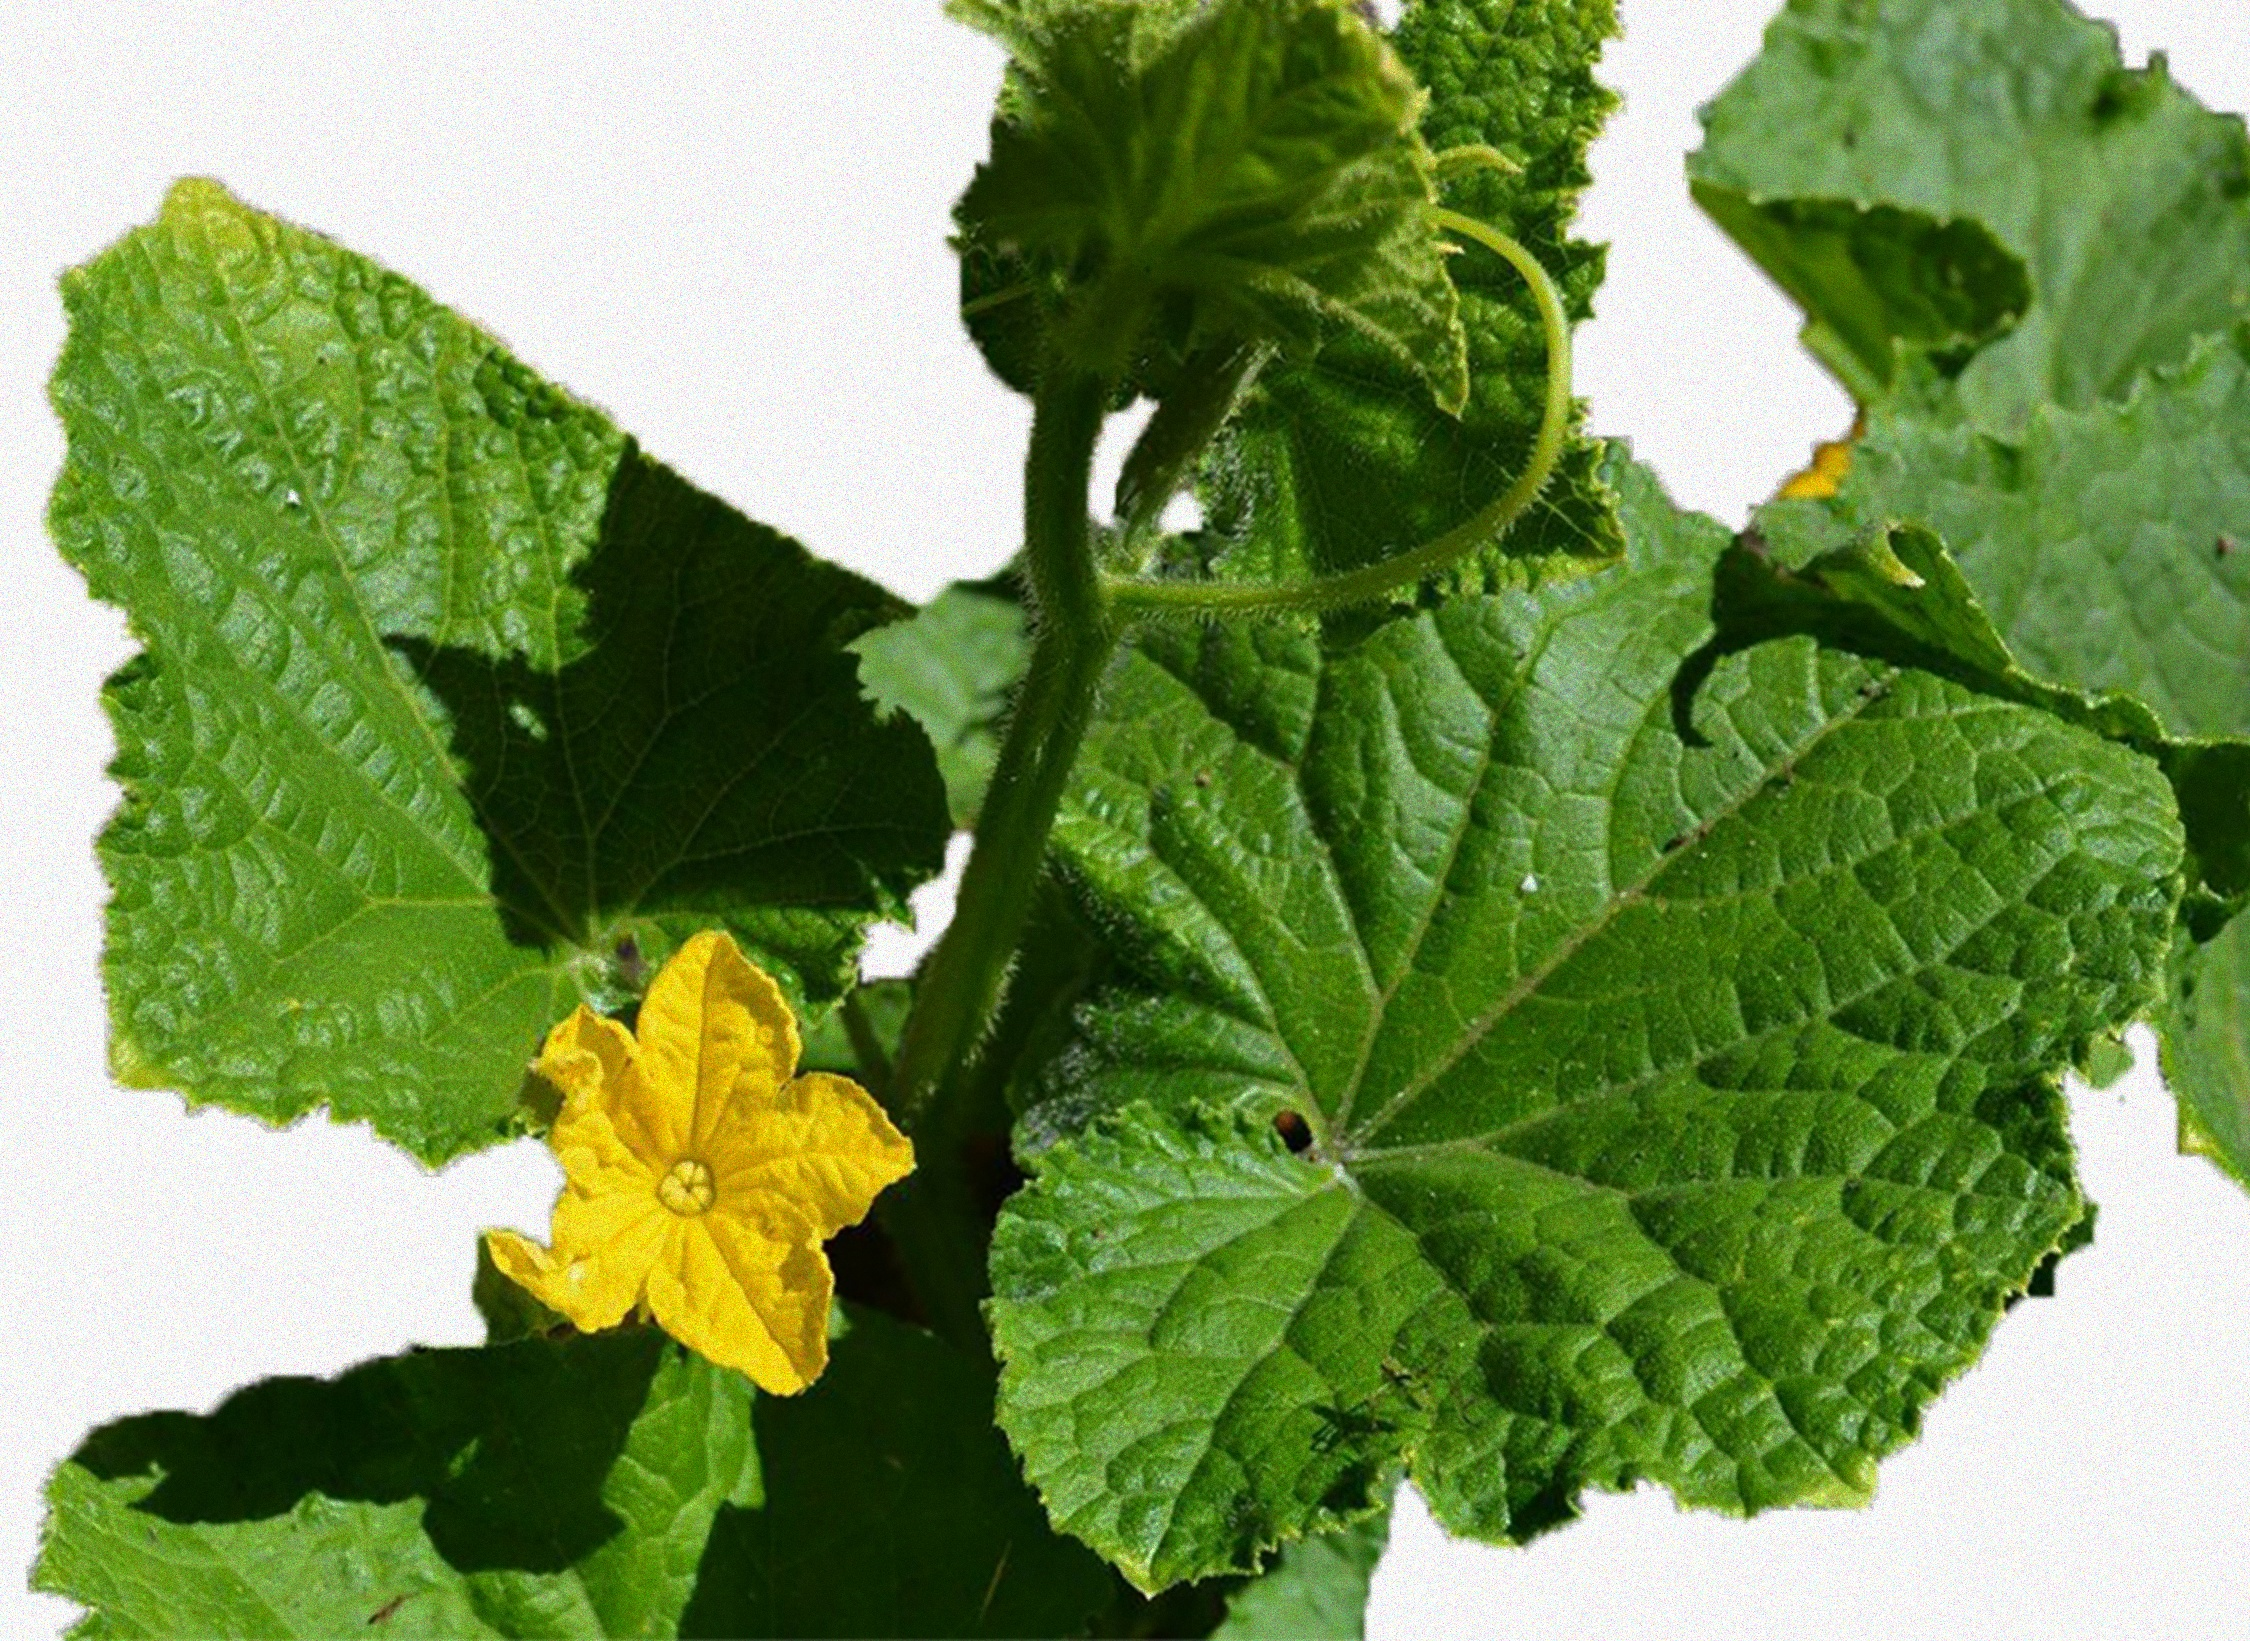cucumber_plant: (38, 168, 2208, 1641)
